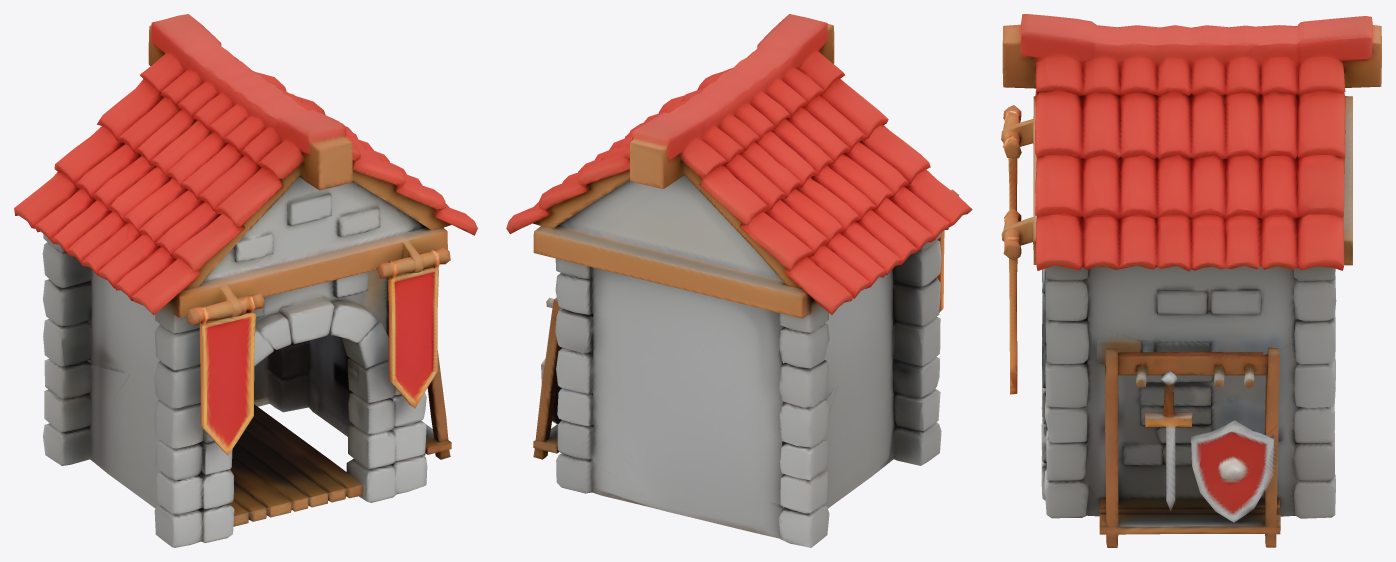
The model's file is base_basic_shaded.fbx.
3 renders of one model, left to right at view 1: azimuth 30°, elevation 25°; view 2: azimuth 150°, elevation 25°; view 3: azimuth 270°, elevation 25°, orthographic. The views are drawn at different scales.
Visible parts, largest first — view 1: model; view 2: model; view 3: model.
Part boxes in pixels (x1,y1,x2,y2): model: (14, 14, 477, 547); model: (506, 14, 972, 547); model: (1001, 14, 1381, 547).
Size of the model in its own units: 151 by 172 by 135.
